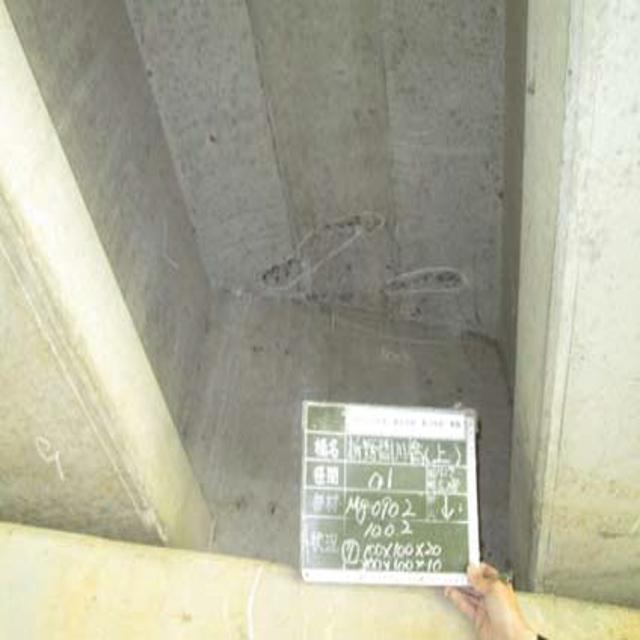spalling: (256, 177, 483, 346)
